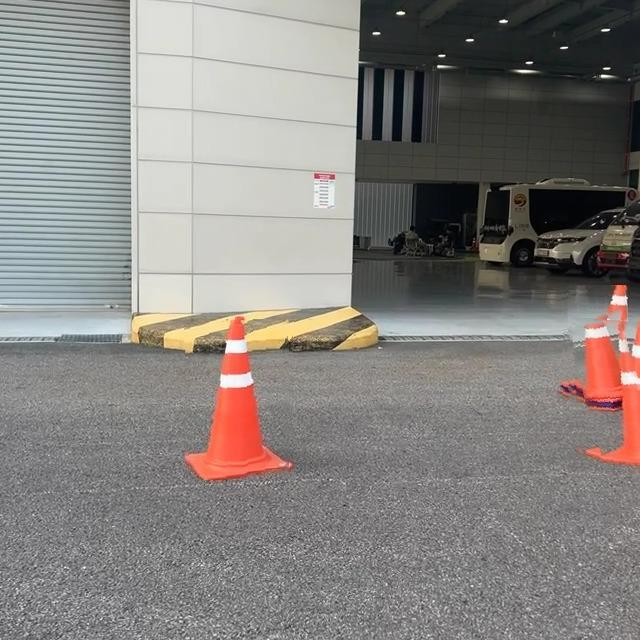fallen_object: (165, 295, 308, 507), (550, 260, 640, 516)
